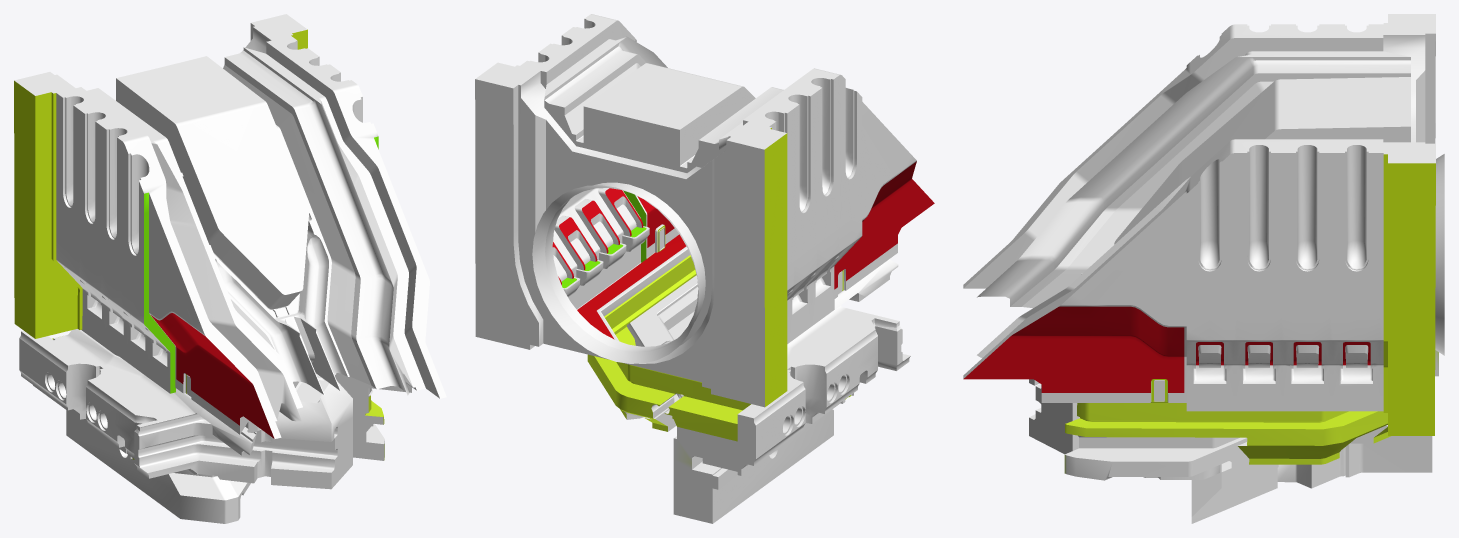
File: part_main-lod0.dae
3 renders of one model, left to right at view 1: azimuth 30°, elevation 25°; view 2: azimuth 150°, elevation 25°; view 3: azimuth 270°, elevation 25°, orthographic. The views are drawn at different scales.
Parts seen in each view (by area): view 1: part_main-lod0Xlod0Xp2genericXgen_p2_hulltexture_02_c, part_main-lod0Xlod0Xp2genericXgen_p2_hullpattern_01, part_main-lod0Xlod0Xp2genericXgen_p2_hulltextureaged_02_b, part_main-lod0Xlod0Xp2multimatXp2_multimat_01; view 2: part_main-lod0Xlod0Xp2genericXgen_p2_hulltextureaged_02_b, part_main-lod0Xlod0Xp2genericXgen_p2_hullpattern_01, part_main-lod0Xlod0Xp2genericXgen_p2_hulltexture_02_c, part_main-lod0Xlod0Xp2multimatXp2_multimat_01; view 3: part_main-lod0Xlod0Xp2genericXgen_p2_hulltexture_02_c, part_main-lod0Xlod0Xp2genericXgen_p2_hullpattern_01, part_main-lod0Xlod0Xp2genericXgen_p2_hulltextureaged_02_b, part_main-lod0Xlod0Xp2multimatXp2_multimat_01.
Boxes of the visible parts, left/top/right/bottom form: part_main-lod0Xlod0Xp2genericXgen_p2_hulltexture_02_c: left=58, top=50, right=397, bottom=434; part_main-lod0Xlod0Xp2genericXgen_p2_hullpattern_01: left=14, top=14, right=446, bottom=489; part_main-lod0Xlod0Xp2genericXgen_p2_hulltextureaged_02_b: left=14, top=27, right=416, bottom=523; part_main-lod0Xlod0Xp2multimatXp2_multimat_01: left=35, top=29, right=378, bottom=459; part_main-lod0Xlod0Xp2genericXgen_p2_hulltextureaged_02_b: left=475, top=19, right=934, bottom=523; part_main-lod0Xlod0Xp2genericXgen_p2_hullpattern_01: left=475, top=14, right=910, bottom=523; part_main-lod0Xlod0Xp2genericXgen_p2_hulltexture_02_c: left=544, top=46, right=932, bottom=343; part_main-lod0Xlod0Xp2multimatXp2_multimat_01: left=552, top=178, right=931, bottom=409; part_main-lod0Xlod0Xp2genericXgen_p2_hulltexture_02_c: left=967, top=60, right=1410, bottom=411; part_main-lod0Xlod0Xp2genericXgen_p2_hullpattern_01: left=963, top=14, right=1444, bottom=488; part_main-lod0Xlod0Xp2genericXgen_p2_hulltextureaged_02_b: left=963, top=35, right=1435, bottom=523; part_main-lod0Xlod0Xp2multimatXp2_multimat_01: left=970, top=335, right=1370, bottom=420.
Bounding box in the file's own units: 30.57 × 38.9 × 41.32.
